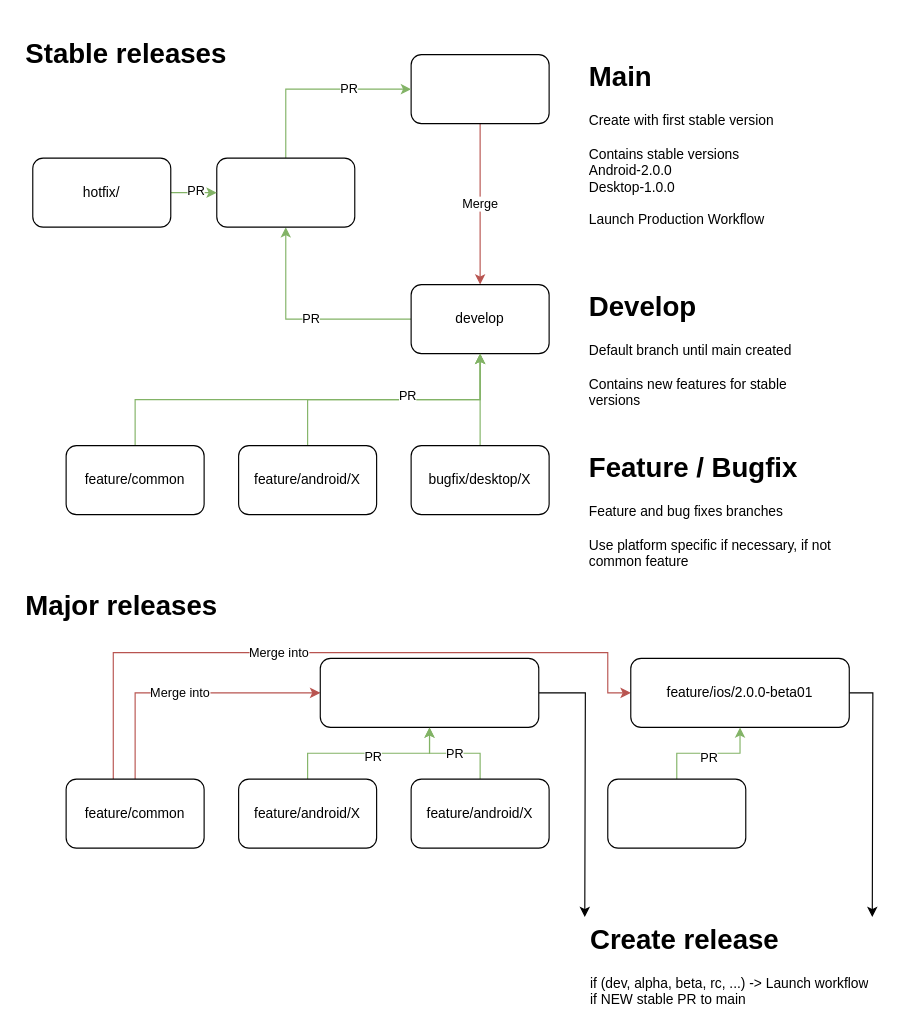
Image size: 902x1028. Some labels were removed from this diagram. The shapes that lost their labels are listed below. From the top down, each one's centre as x and y in pixels, then its label:
At pixel 479 88: "main".
At pixel 285 192: "release/android-2.0.1".
At pixel 429 692: "feature/android/3.0.0-alpha01".
At pixel 676 813: "feature/ios/X".
